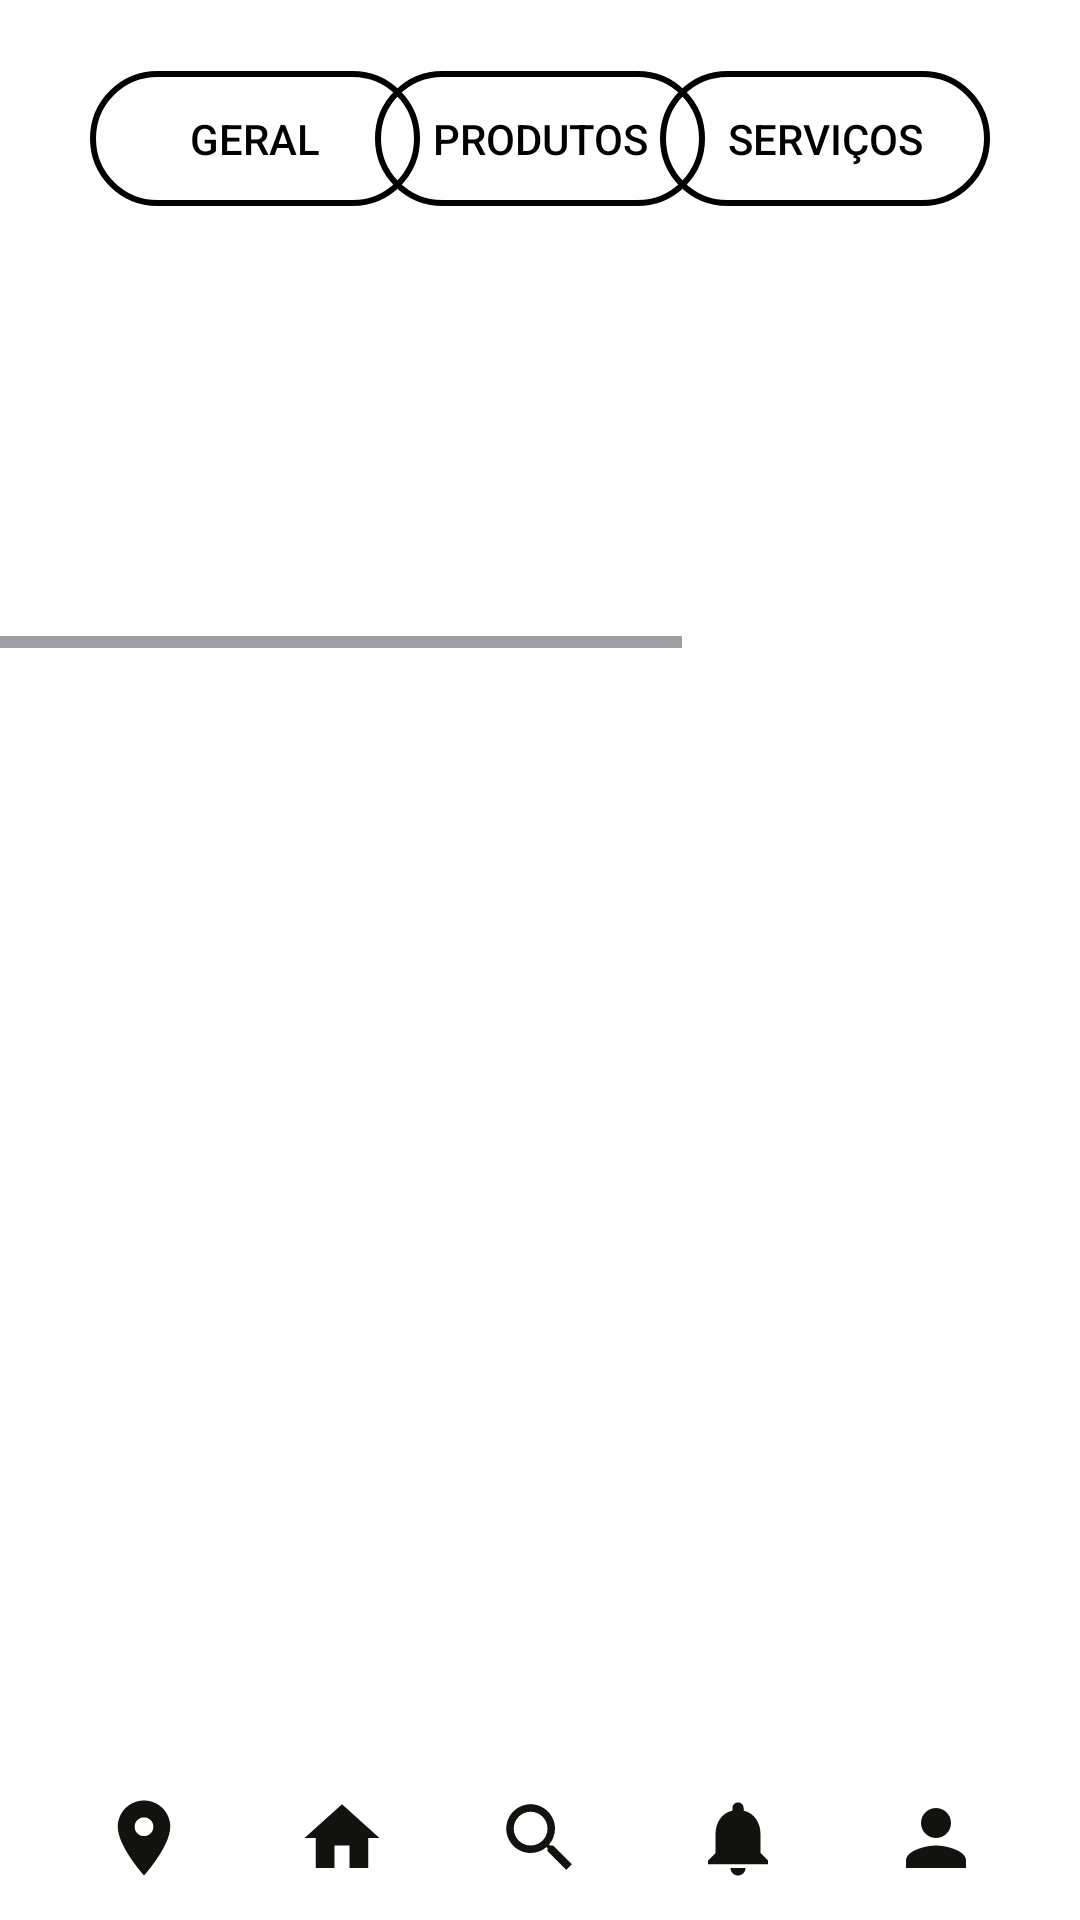

Where icons sit on this 1080*1920 app screen, as (x1, y1, x2, y2):
home: (305, 1804, 379, 1868)
localizacao: (117, 1800, 171, 1875)
notifications: (708, 1802, 768, 1876)
perfil: (906, 1808, 966, 1868)
pesquisa: (506, 1804, 572, 1870)
